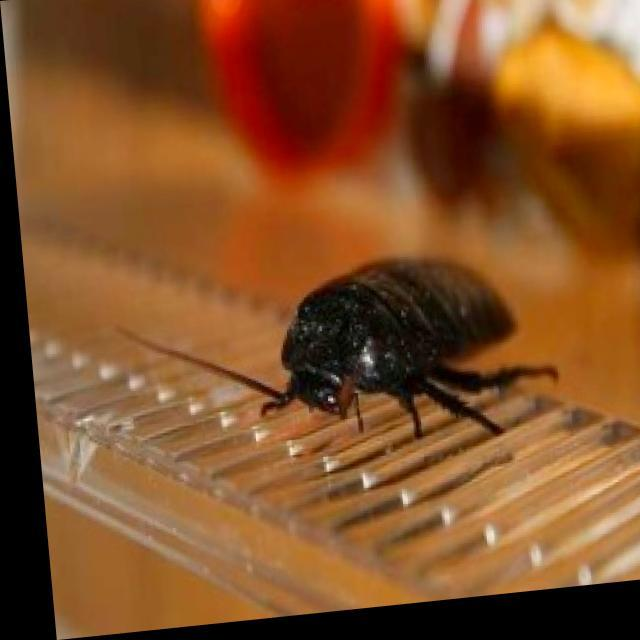cockroach: (265, 206, 516, 454)
